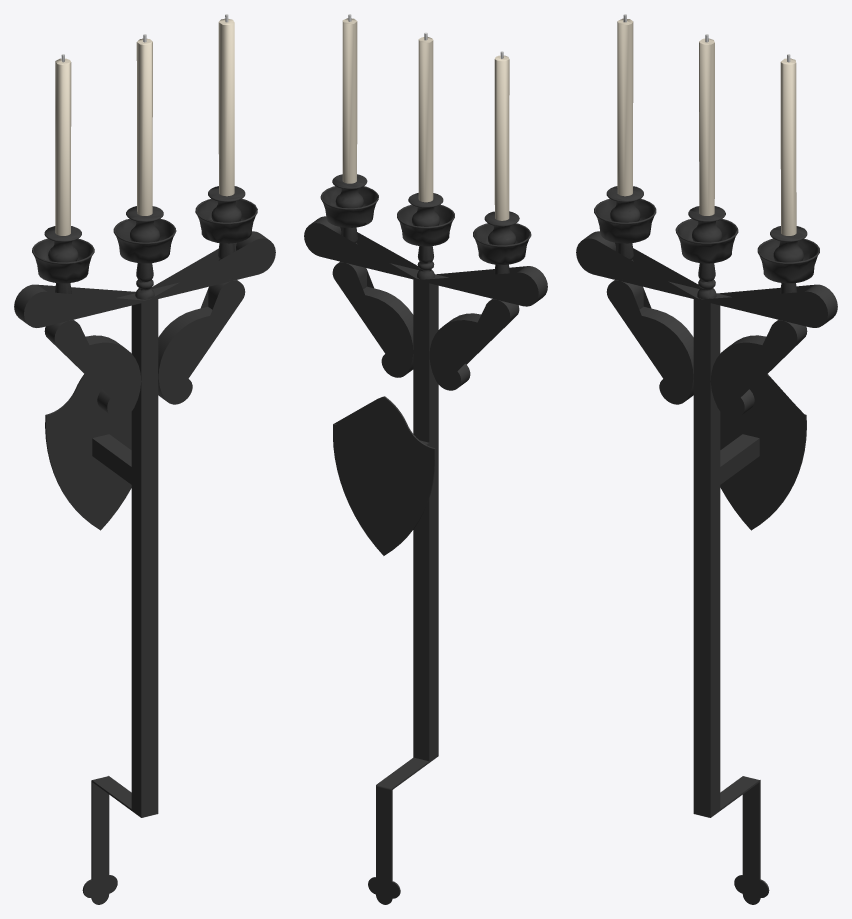
Rendered from candle_wall_sconce.fbx.
The picture shows the model from 3 angles, left to right: view 1: azimuth 30°, elevation 25°; view 2: azimuth 150°, elevation 25°; view 3: azimuth 330°, elevation 25°; orthographic projection. The views are drawn at different scales.
Visible parts, largest first — view 1: Wall_sconce, Wall_sconce_candleholder, Wall_sconce_Candle; view 2: Wall_sconce, Wall_sconce_Candle, Wall_sconce_candleholder; view 3: Wall_sconce, Wall_sconce_candleholder, Wall_sconce_Candle.
Part boxes in pixels (bbox=[...]): Wall_sconce: bbox=[14, 231, 275, 904]; Wall_sconce_candleholder: bbox=[32, 186, 257, 299]; Wall_sconce_Candle: bbox=[55, 14, 234, 235]; Wall_sconce: bbox=[304, 216, 547, 904]; Wall_sconce_Candle: bbox=[342, 14, 509, 220]; Wall_sconce_candleholder: bbox=[320, 174, 531, 279]; Wall_sconce: bbox=[576, 231, 837, 904]; Wall_sconce_candleholder: bbox=[594, 186, 819, 318]; Wall_sconce_Candle: bbox=[617, 14, 796, 235].
Bounding box in the file's own units: 1.16 × 3.96 × 0.4836.
